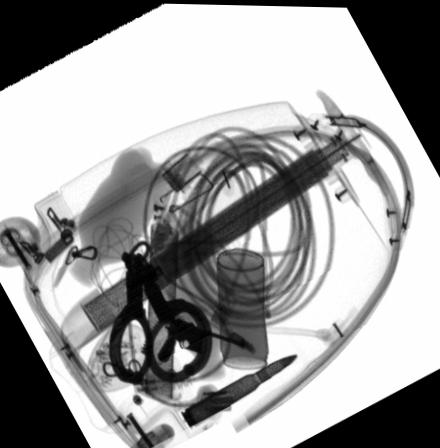Bullet: (180, 352, 299, 426)
Gun: (156, 314, 254, 361)
HandCuffs: (107, 250, 215, 385)
